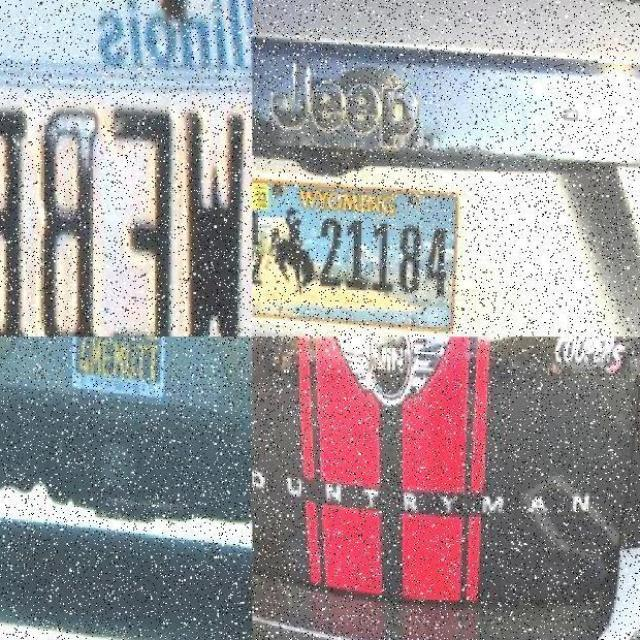license-plate: (261, 142, 491, 314)
